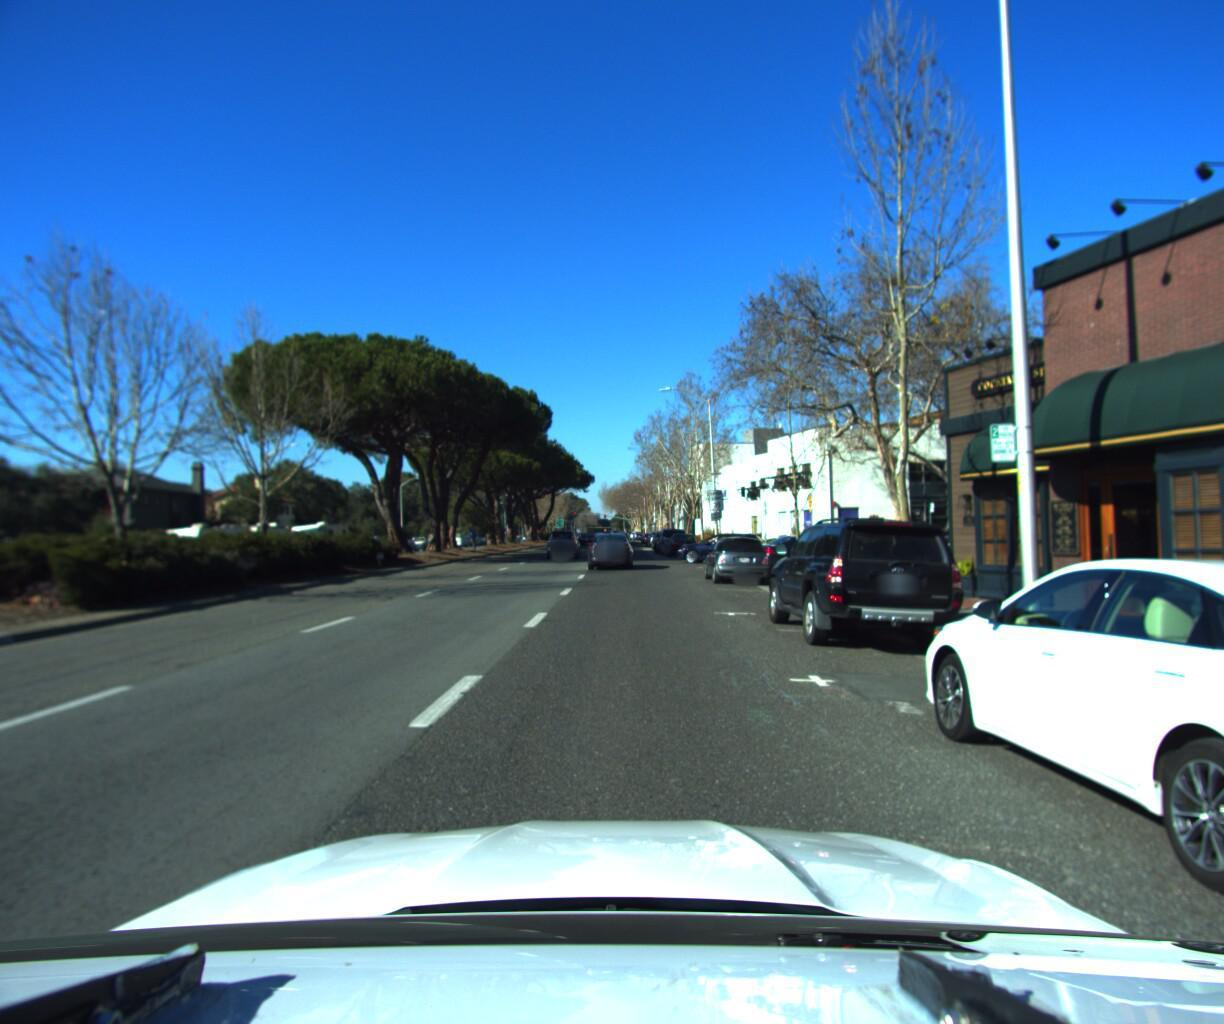car: (885, 534, 1224, 1024), (755, 503, 992, 667), (751, 530, 875, 576), (703, 530, 776, 587), (671, 527, 768, 563), (584, 527, 634, 568), (655, 524, 694, 554), (548, 524, 584, 556), (665, 529, 702, 557), (0, 556, 20, 606), (578, 530, 599, 546)
other_vehicle: (152, 516, 260, 577), (220, 519, 306, 567), (288, 520, 355, 563)
